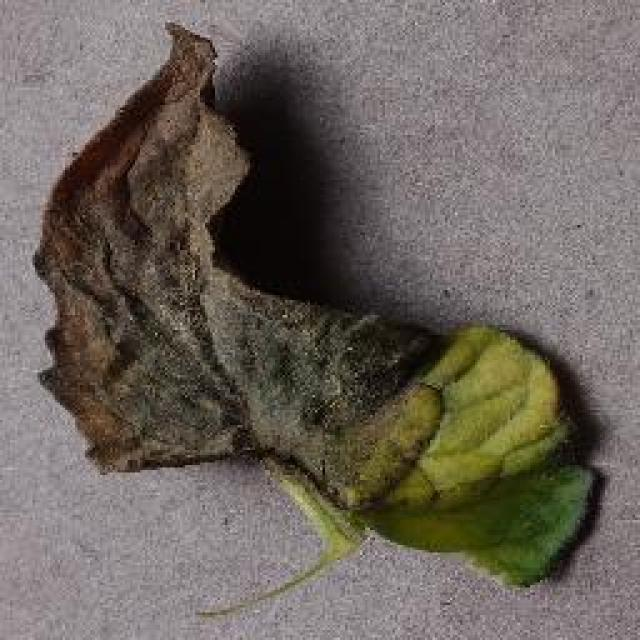Tomato___Late_blight: (32, 25, 608, 618)
